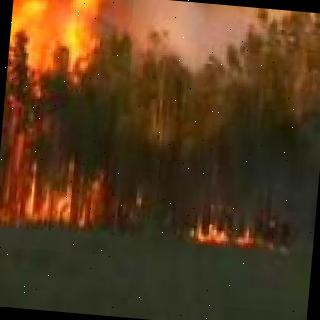fire: (0, 0, 114, 232), (190, 211, 263, 247)
